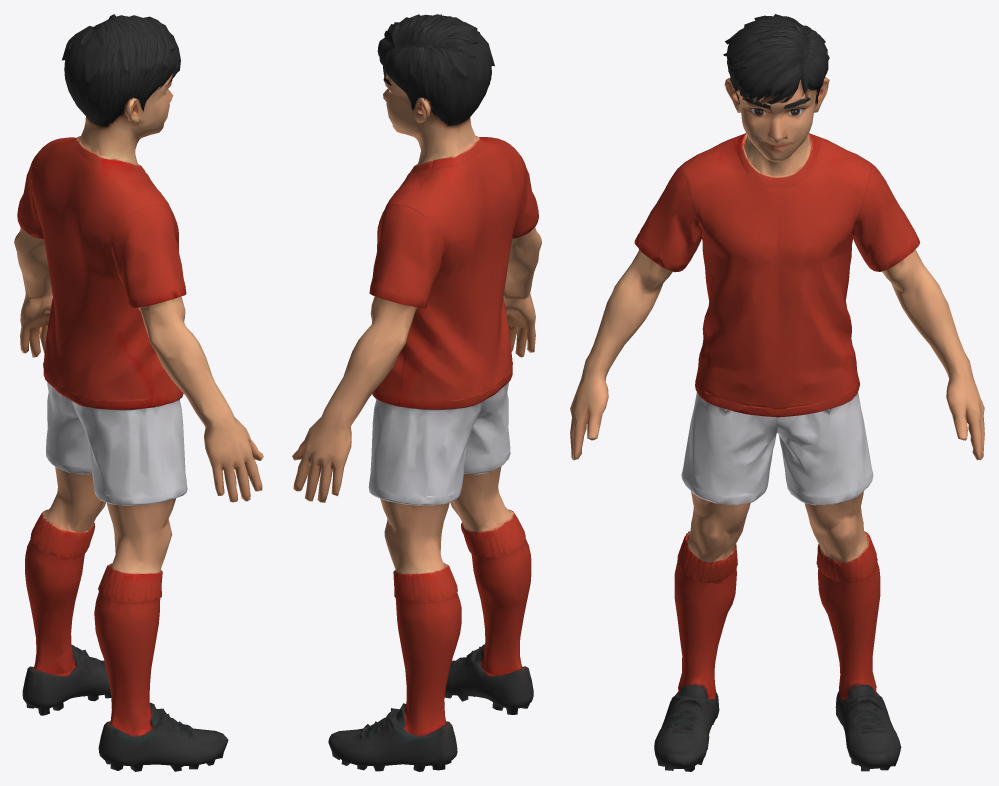
The model's file is gen.glb.
The picture shows the model from 3 angles, left to right: view 1: azimuth 30°, elevation 25°; view 2: azimuth 150°, elevation 25°; view 3: azimuth 270°, elevation 25°; orthographic projection. The views are drawn at different scales.
Parts seen in each view (by area): view 1: tripo_node_e701c74b-93ad-4da5-9cdb-9eb50b7aac96; view 2: tripo_node_e701c74b-93ad-4da5-9cdb-9eb50b7aac96; view 3: tripo_node_e701c74b-93ad-4da5-9cdb-9eb50b7aac96.
Part boxes in pixels (<box>): tripo_node_e701c74b-93ad-4da5-9cdb-9eb50b7aac96: <box>14,14,263,771</box>; tripo_node_e701c74b-93ad-4da5-9cdb-9eb50b7aac96: <box>292,14,541,771</box>; tripo_node_e701c74b-93ad-4da5-9cdb-9eb50b7aac96: <box>570,14,984,771</box>.
Bounding box in the file's own units: 0.1708 × 0.9772 × 0.5058.
Materials: 1 (1 with a texture image).
